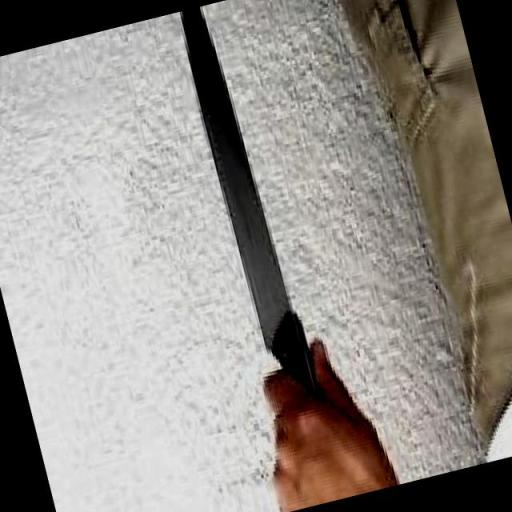knife: (179, 1, 322, 412)
